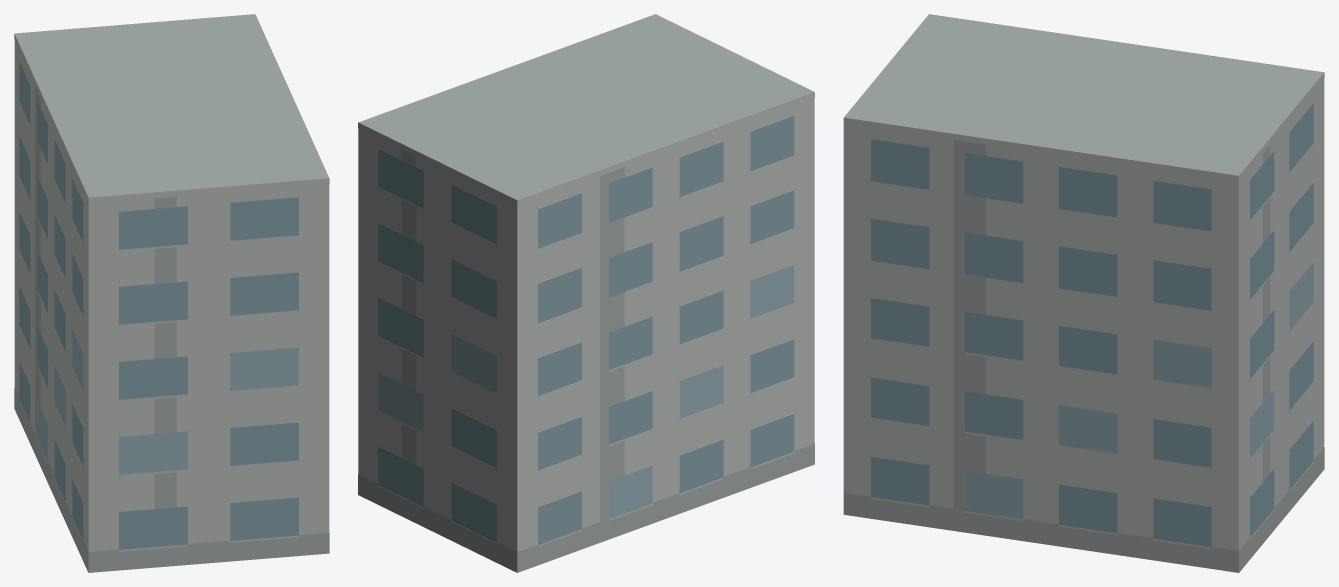
The model's file is residential-5ef9b46a-bd0a-4e0d-bd87-4ad3b74911e8.glb.
3 renders of one model, left to right at view 1: azimuth 30°, elevation 25°; view 2: azimuth 150°, elevation 25°; view 3: azimuth 270°, elevation 25°, orthographic. The views are drawn at different scales.
Visible parts, largest first — view 1: residential-5ef9b46a-bd0a-4e0d-bd87-4ad3b74911e8.tmp; view 2: residential-5ef9b46a-bd0a-4e0d-bd87-4ad3b74911e8.tmp; view 3: residential-5ef9b46a-bd0a-4e0d-bd87-4ad3b74911e8.tmp.
Part boxes in pixels (x1,y1,x2,y2): residential-5ef9b46a-bd0a-4e0d-bd87-4ad3b74911e8.tmp: (14, 14, 329, 572); residential-5ef9b46a-bd0a-4e0d-bd87-4ad3b74911e8.tmp: (358, 14, 814, 572); residential-5ef9b46a-bd0a-4e0d-bd87-4ad3b74911e8.tmp: (843, 14, 1324, 572).
Size of the model in its own units: 13.34 by 15.25 by 16.74.
